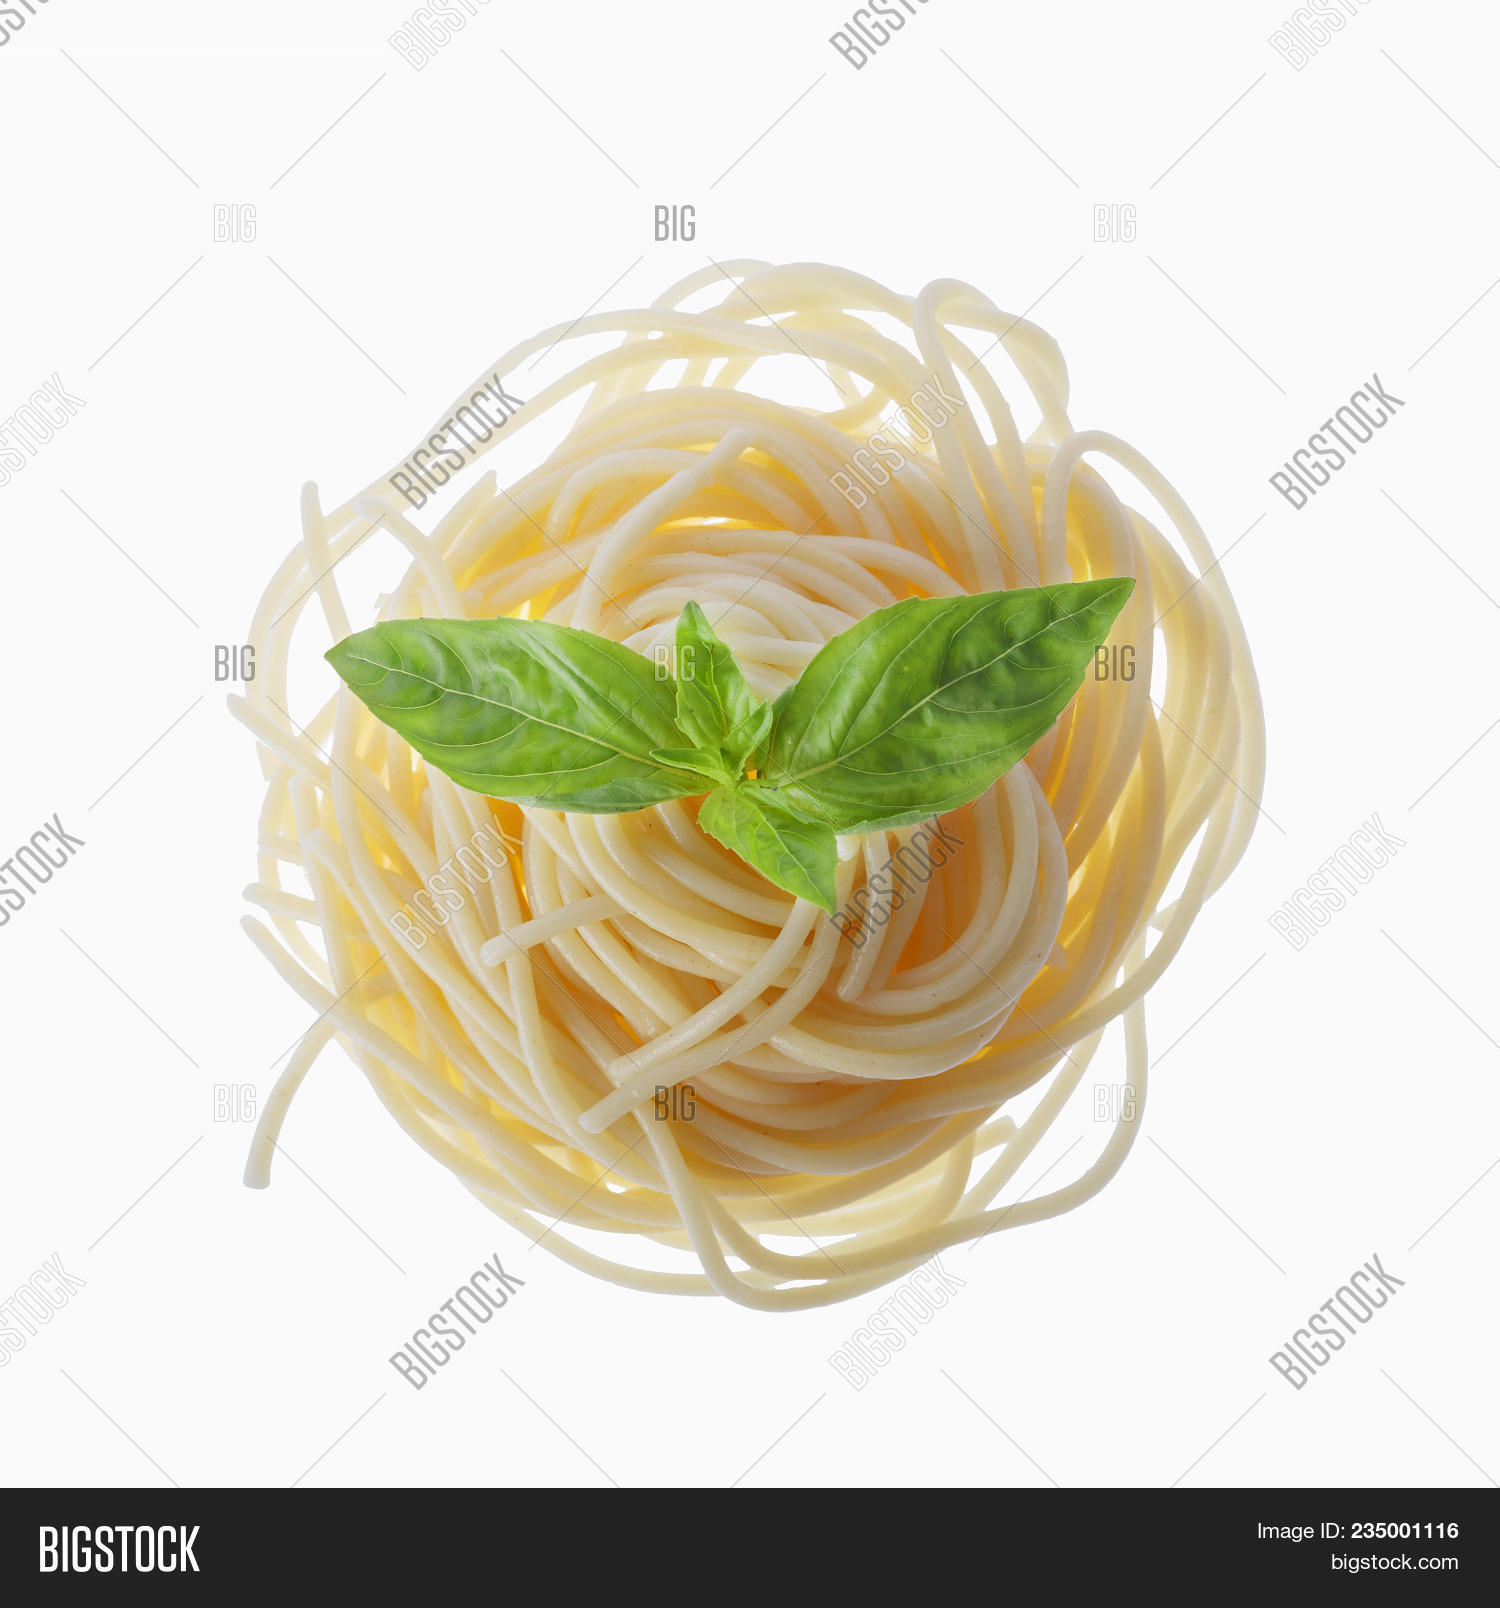plain spaghetti: (350, 414, 1057, 1188)
